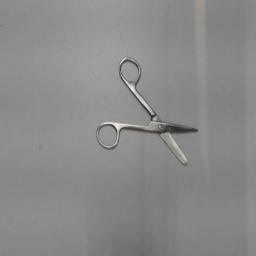Dressing Scissors: (92, 52, 208, 174)
